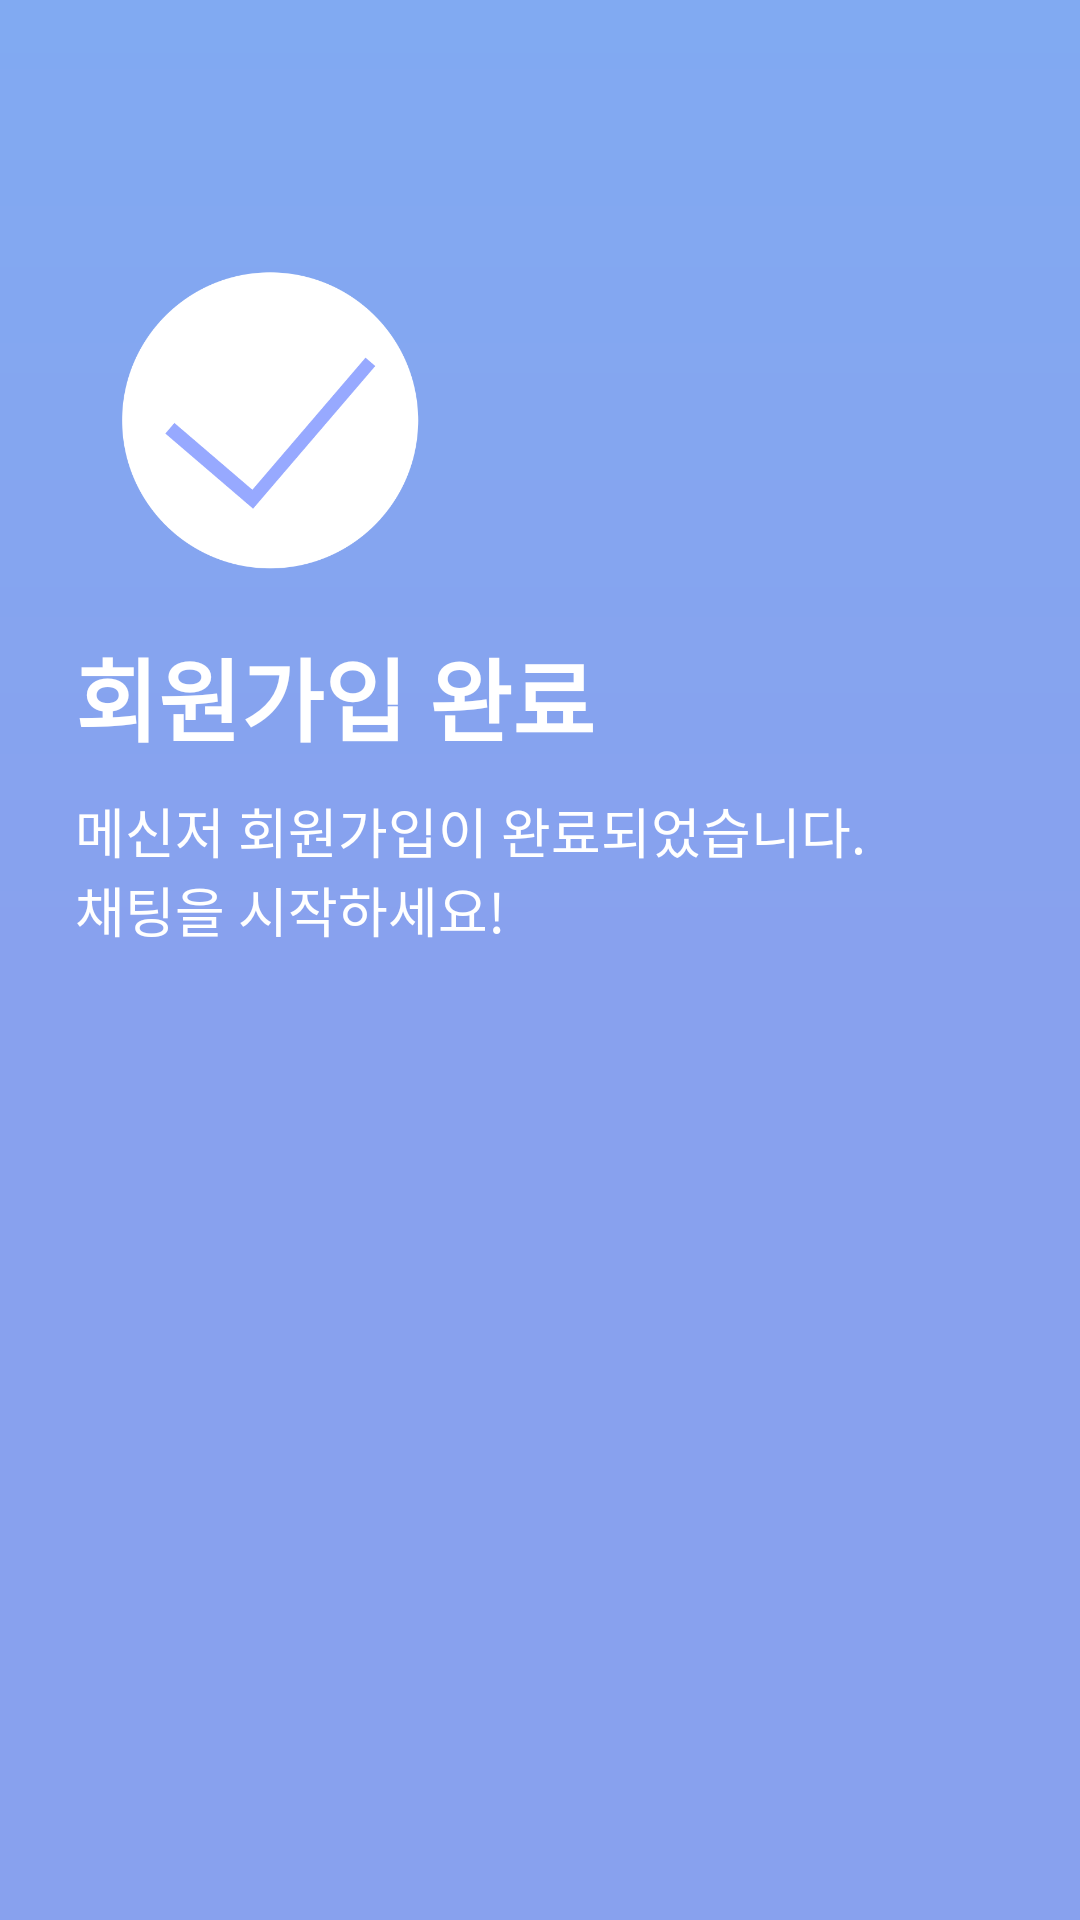

Where icons sit on this 1080 × 1920 app screen, as region(x1, y1, x2, y2):
check: region(122, 272, 419, 569)
